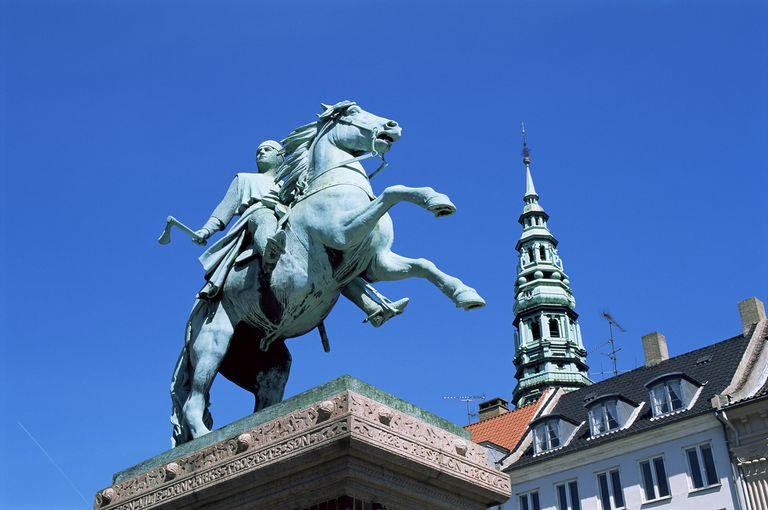person-like: (193, 135, 294, 269)
